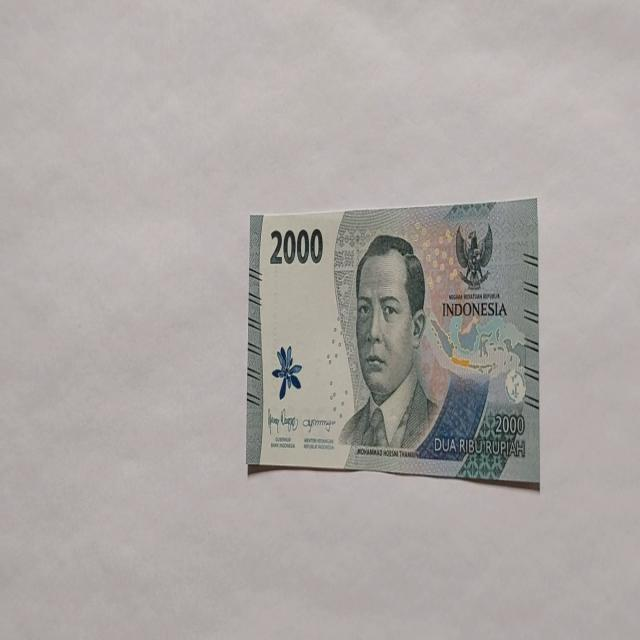dua ribu rupiah: (246, 198, 540, 486), (338, 233, 440, 451)
